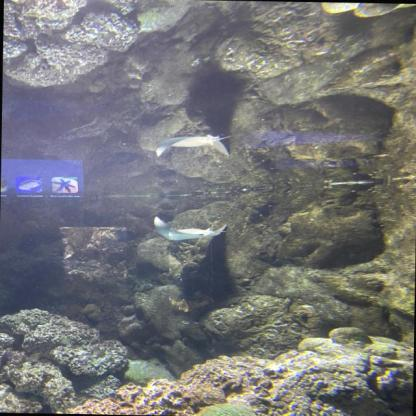stingray: (154, 134, 230, 158), (153, 216, 227, 240)
